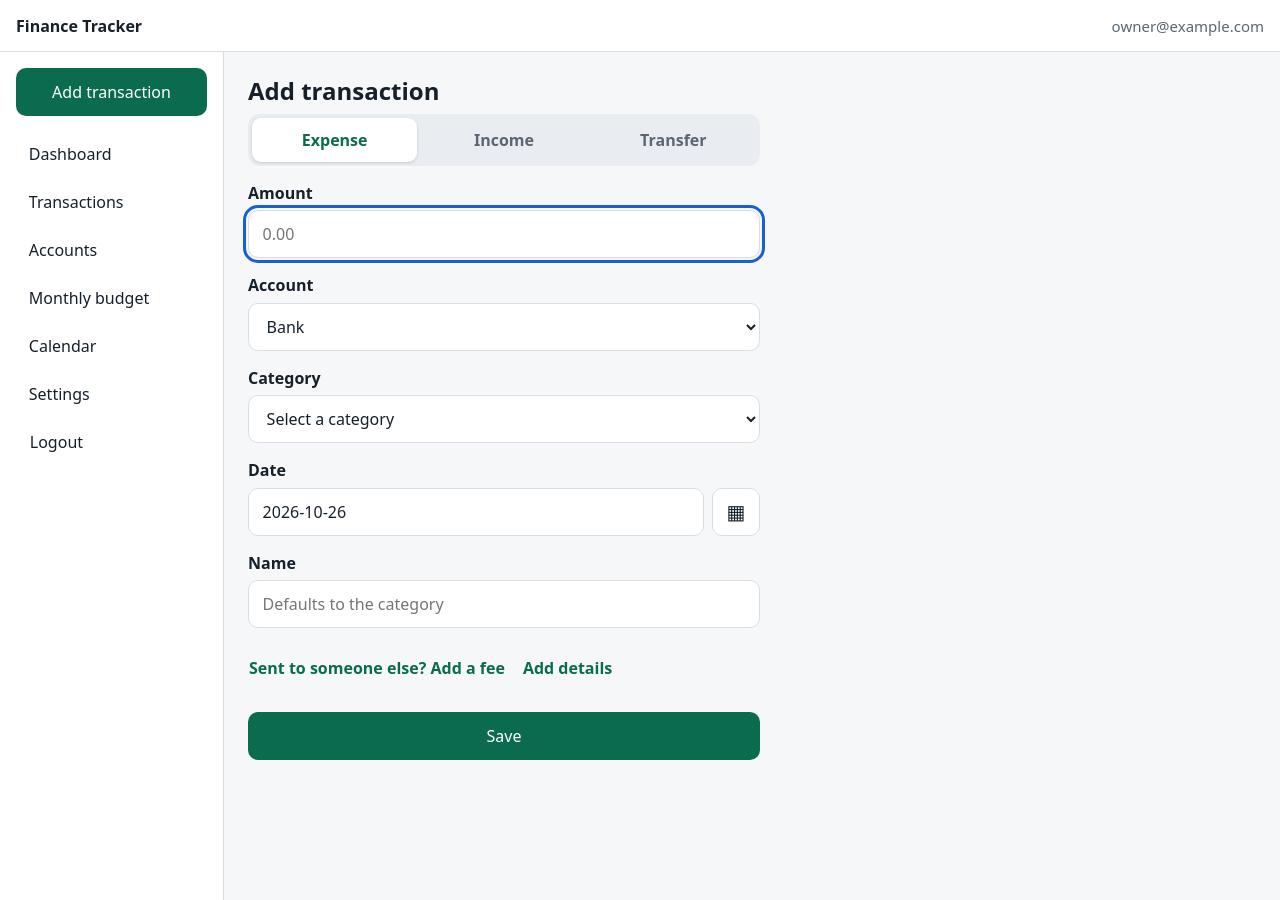
transfer form › refuses the same account on both sides without sending anything
Click the radio button labelled "Transfer" at [673, 140], box [591,118,756,162]
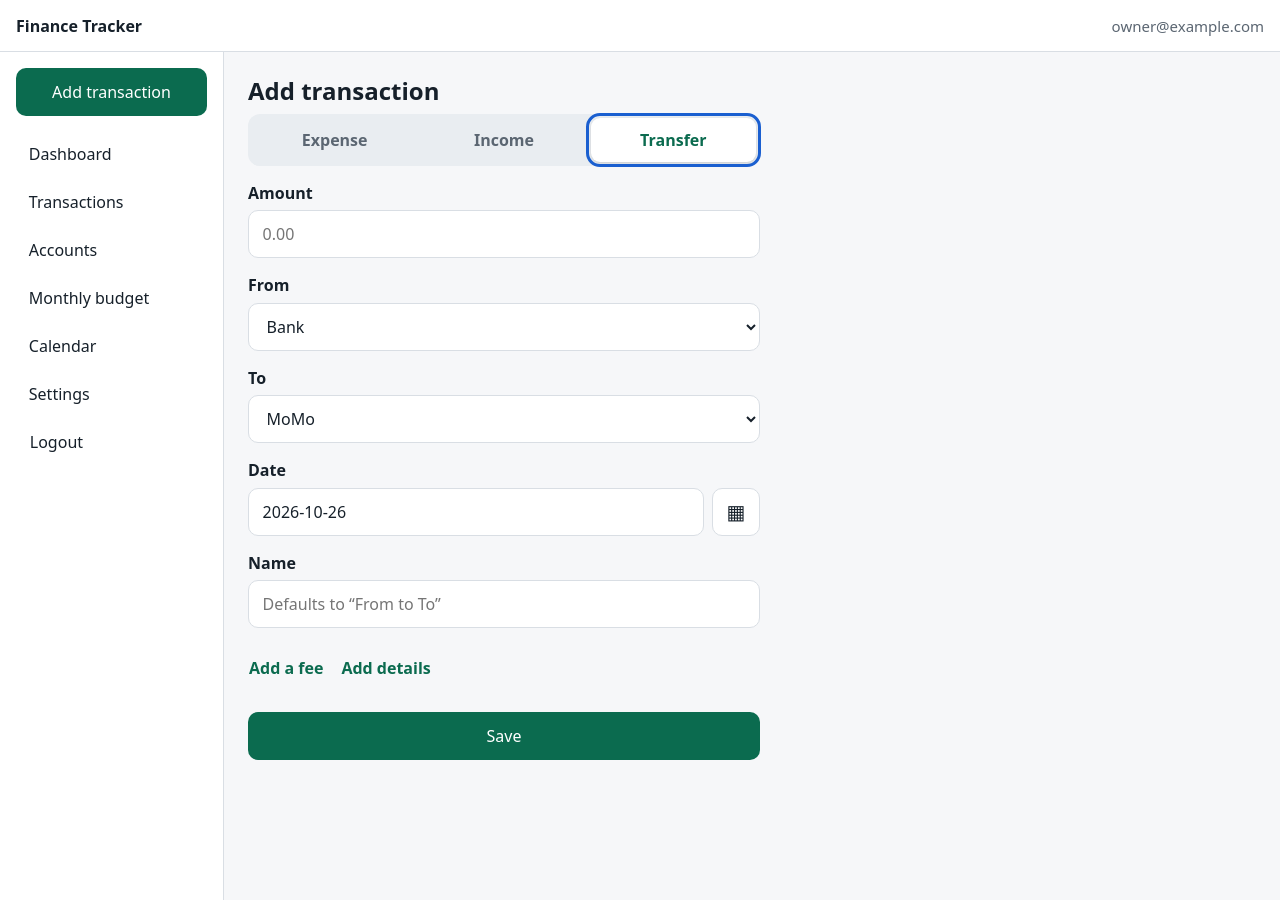
expect the dropdown labelled "From" shows "Bank": met, box [248,303,760,351]
Type "10" into the field labelled "Amount" at [504, 234], box [248,210,760,258]
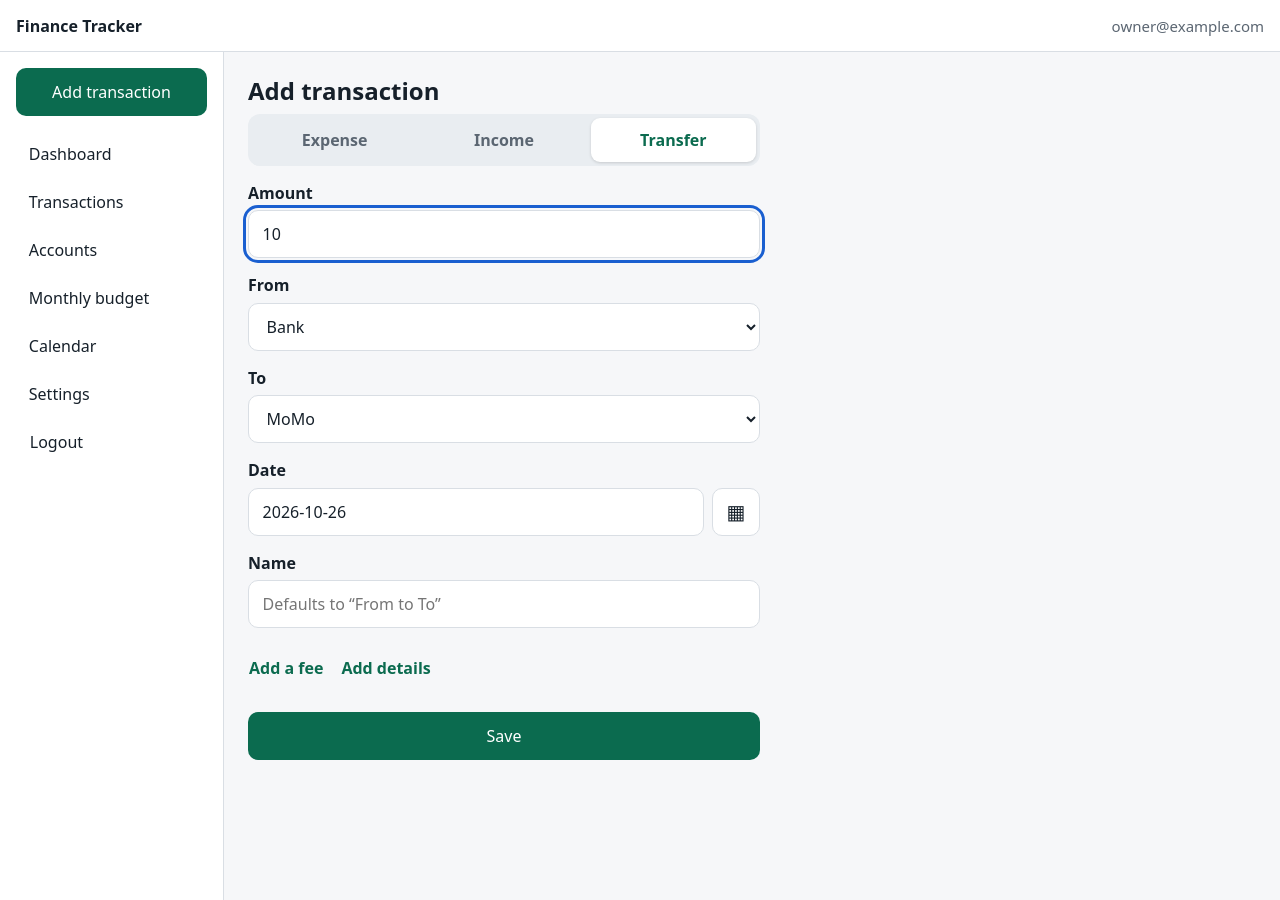
Select "Bank" in the dropdown labelled "To" at [504, 419], box [248,395,760,443]
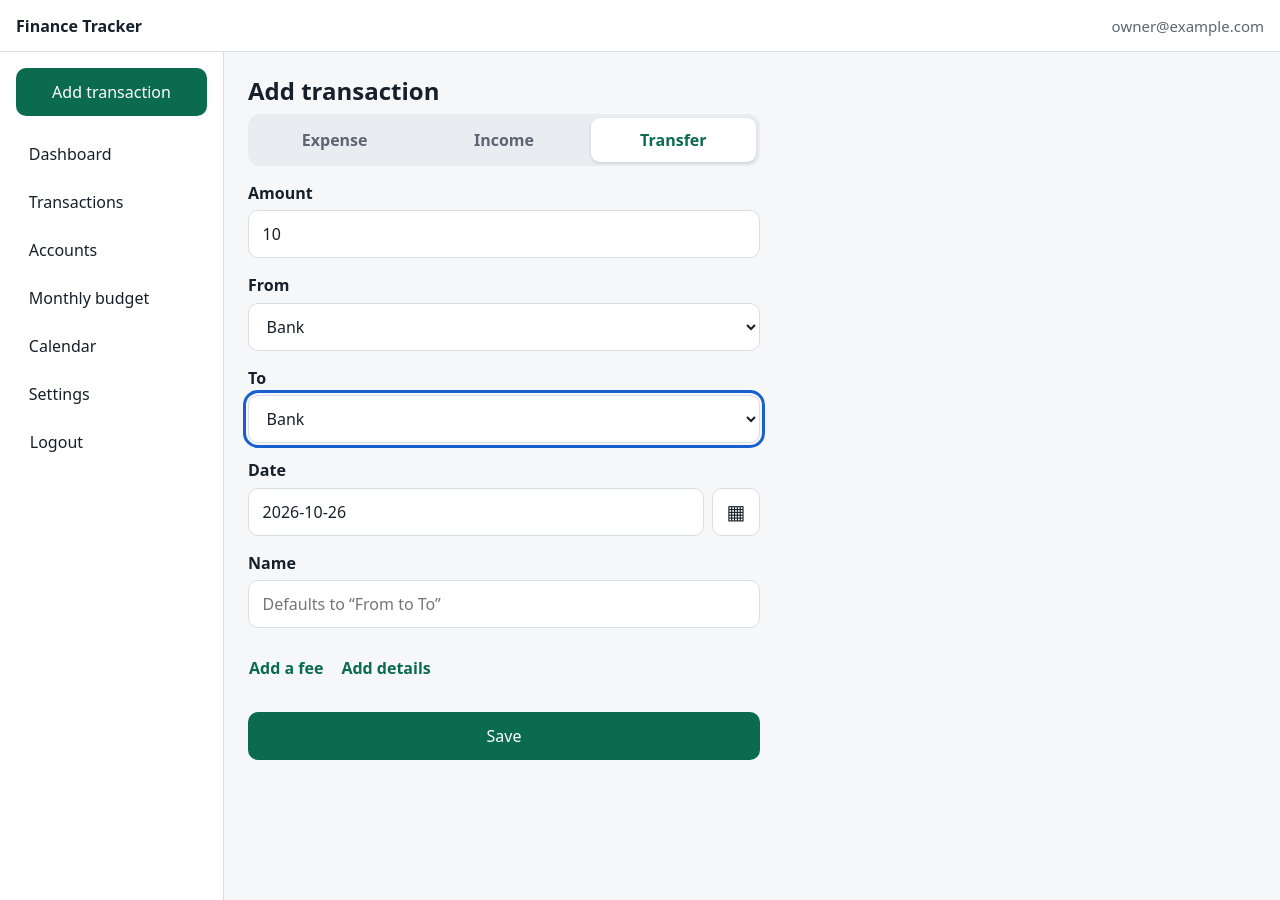
Click the button "Save" at [504, 736], box [248,712,760,760]
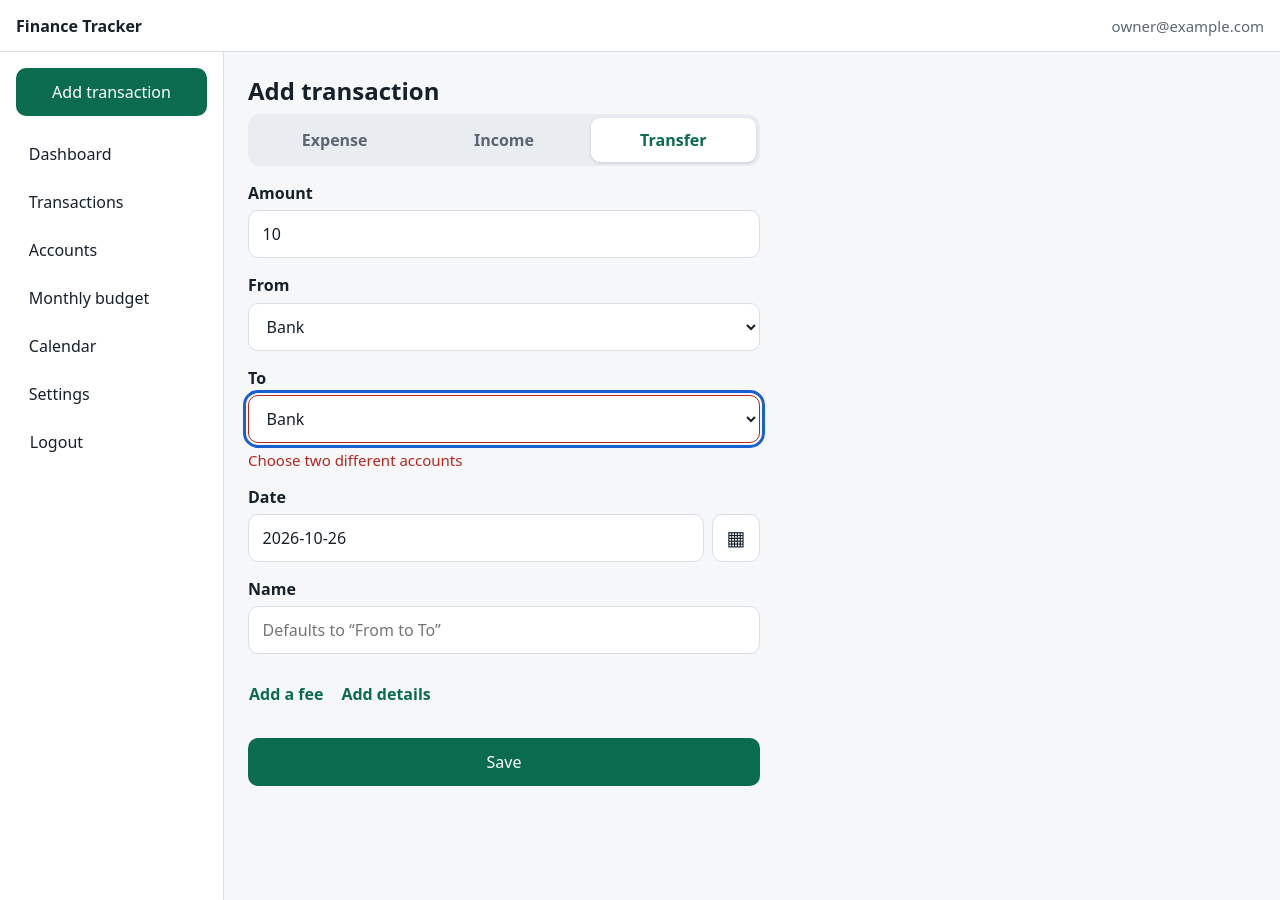
expect the text "Choose two different accounts" is shown: met, box [248,450,462,470]
